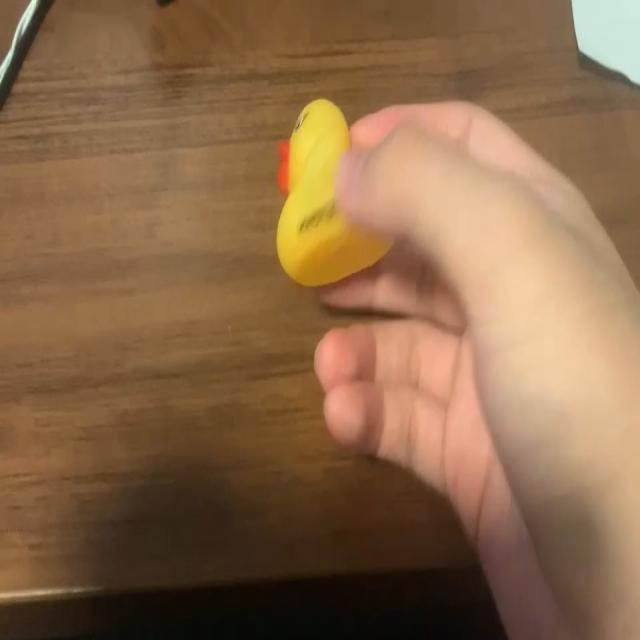rubber-duck: (276, 98, 390, 284)
